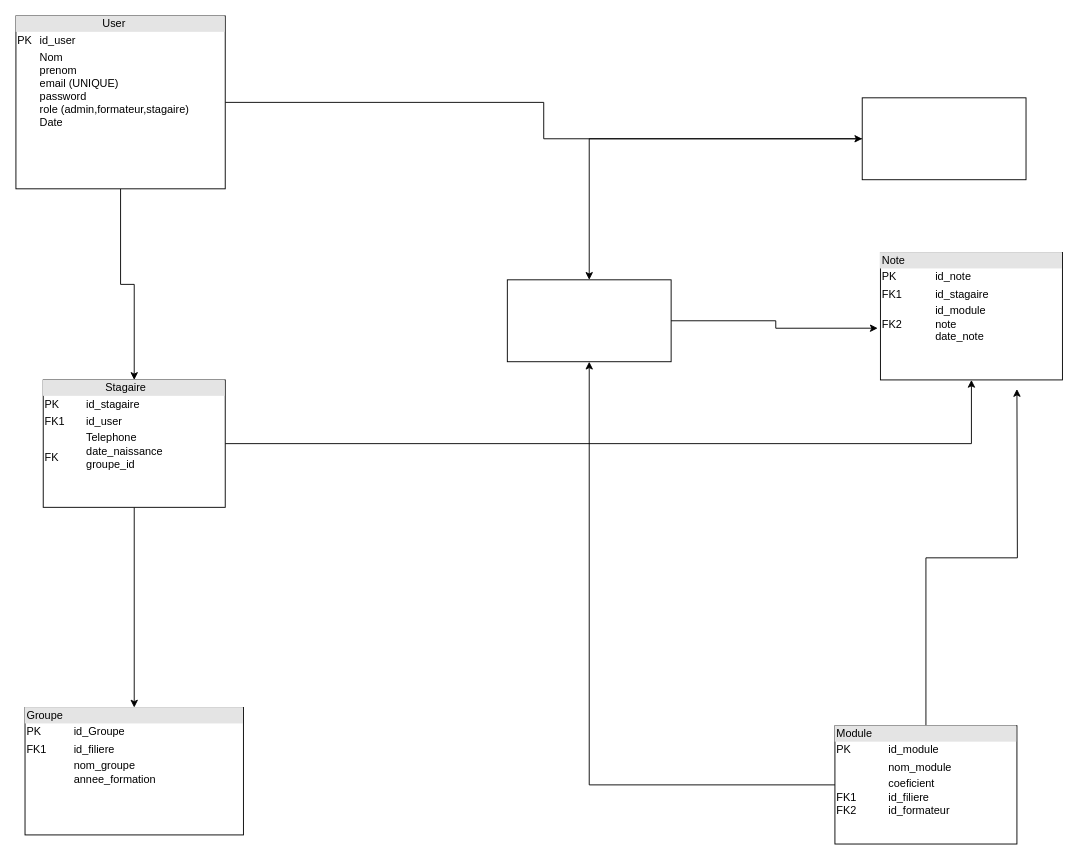
Some shapes in this 1078 by 860 pixel diagram are drawn without their labels. Each missing label, with the centre of its shape:
Filiere PK id_filier nom_filiere anee_formation: (588,320)
Formateur PK id_formateur FK1 id_user specialite Telephone: (943,138)
